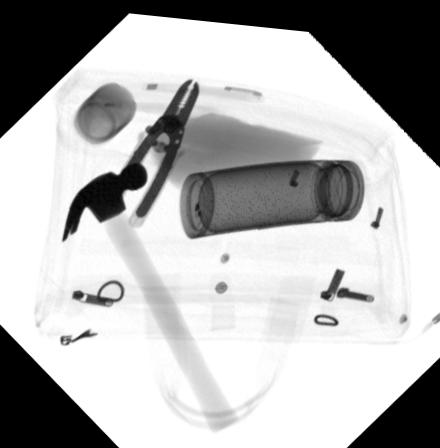Hammer: (59, 157, 238, 429)
Pliers: (100, 75, 200, 226)
